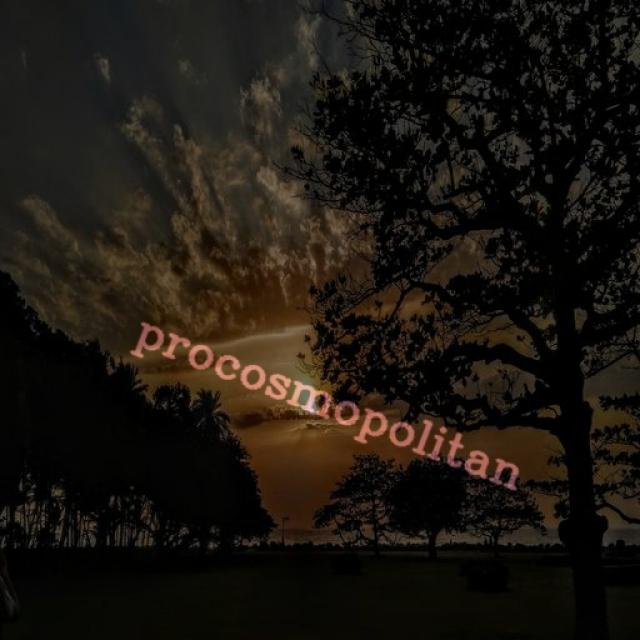watermark: (122, 308, 549, 498)
